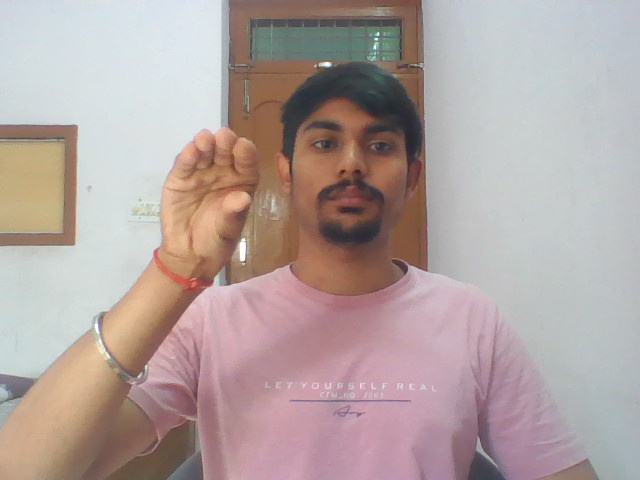No: (153, 120, 278, 253)
